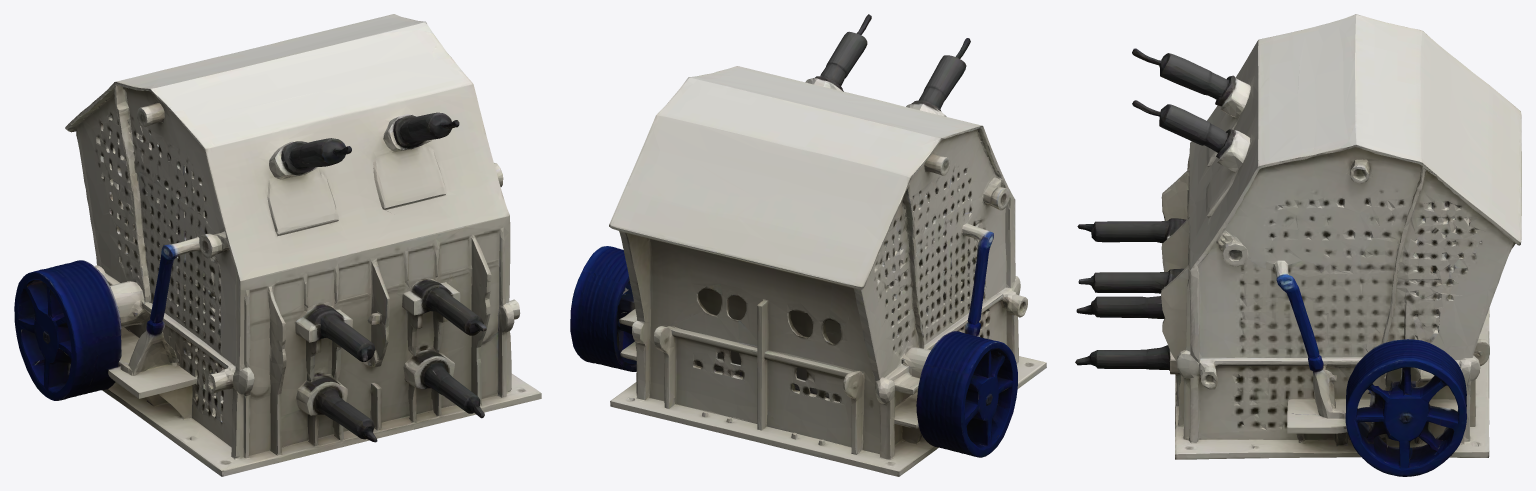
Rendered from horizontal_shaft.glb.
3 renders of one model, left to right at view 1: azimuth 30°, elevation 25°; view 2: azimuth 150°, elevation 25°; view 3: azimuth 270°, elevation 25°, orthographic. The views are drawn at different scales.
Parts seen in each view (by area): view 1: geometry_0; view 2: geometry_0; view 3: geometry_0.
Boxes of the visible parts, <box> form: geometry_0: <box>14,14,541,476</box>; geometry_0: <box>570,14,1046,476</box>; geometry_0: <box>1075,14,1521,476</box>.
Size of the model in its own units: 1 by 0.7296 by 0.9321.
Materials: 1 (1 with a texture image).
